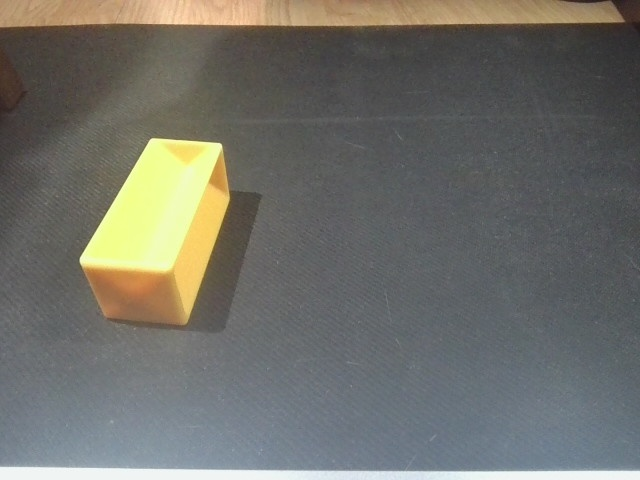YellowSample: (73, 132, 235, 331)
